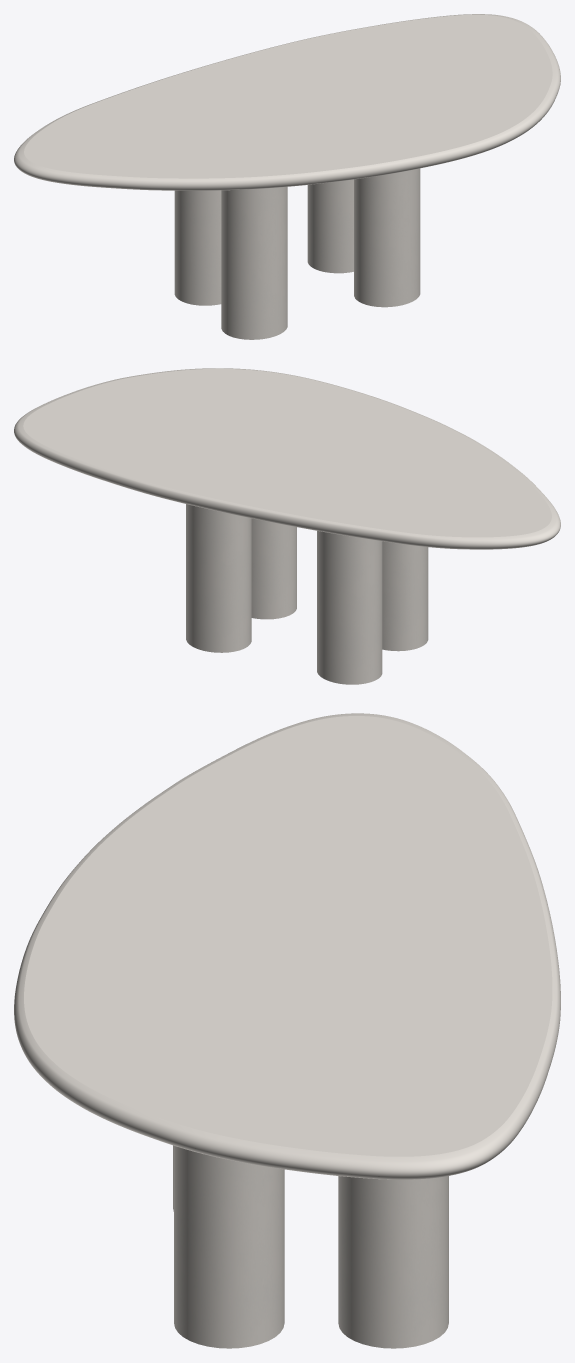
File: pearlwhite_pebbletop_round_grove.glb
3 views of the same model, one above another, from view 1: azimuth 30°, elevation 25°; view 2: azimuth 150°, elevation 25°; view 3: azimuth 270°, elevation 25° (orthographic). The views are drawn at different scales.
Visible parts, largest first — view 1: round_pebbletop, grove; view 2: round_pebbletop, grove; view 3: round_pebbletop, grove.
Part boxes in pixels (box(x1,y1,x2,y2)): round_pebbletop: box(14, 14, 560, 190); grove: box(174, 168, 420, 339); round_pebbletop: box(14, 368, 560, 549); grove: box(186, 504, 428, 684); round_pebbletop: box(14, 713, 560, 1179); grove: box(173, 1145, 448, 1348).
Size of the model in its own units: 7.5 by 2.52 by 3.8.
1 material, 1 textured.
